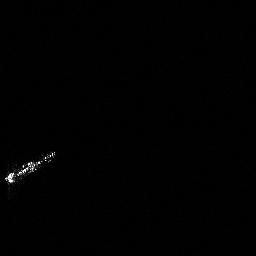ship: (1, 146, 59, 188)
